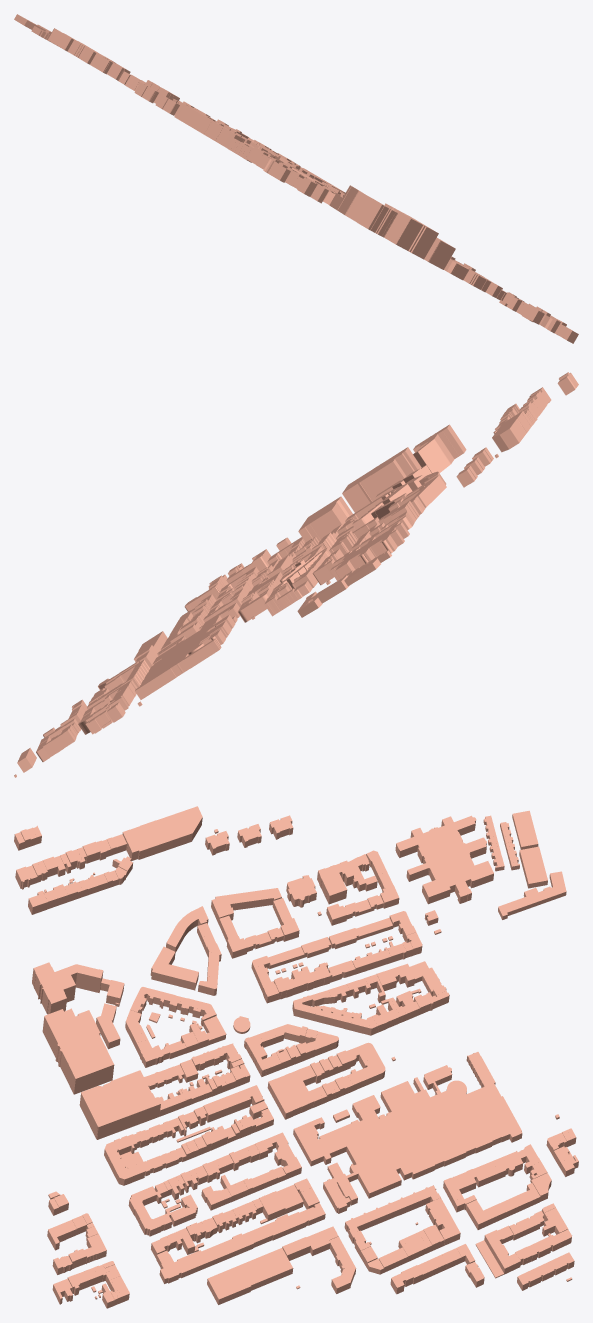
3 views of the same model, one above another, from view 1: azimuth 30°, elevation 25°; view 2: azimuth 150°, elevation 25°; view 3: azimuth 270°, elevation 25° (orthographic). The views are drawn at different scales.
Size of the model in its own units: 534 by 399 by 639.
